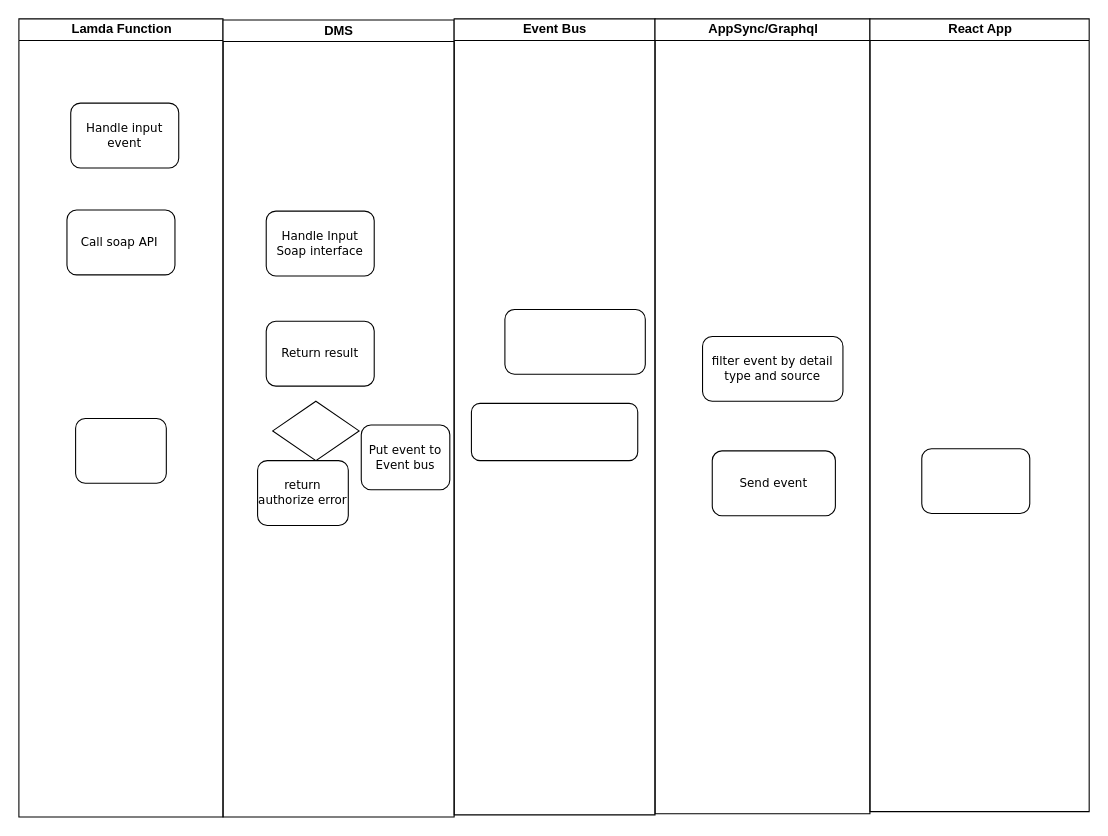
Image size: 1108x836. Some labels were removed from this diagram. The centre of each missing label's shape, as x and y in pixels:
"Authorize" goes at [574,341].
"authorized?" goes at [315,430].
"handle event" goes at [975,481].
"Return authorize result" goes at [554,431].
"Show authorize error to users" goes at [120,450].
